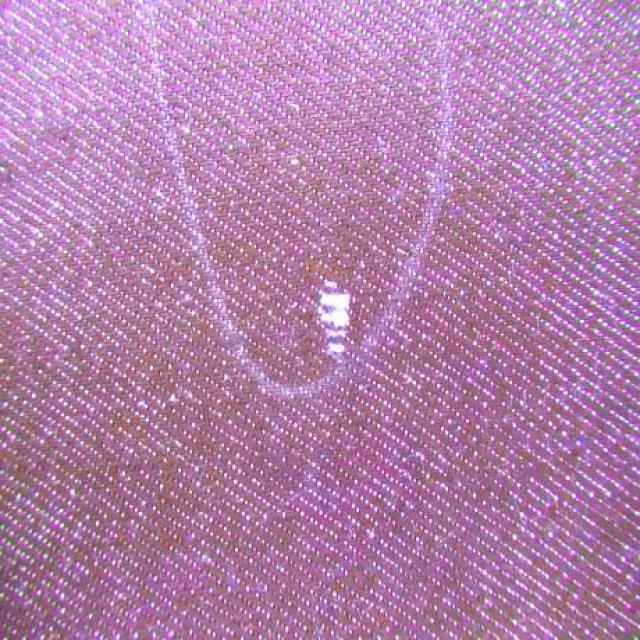stains: (240, 229, 384, 380)
